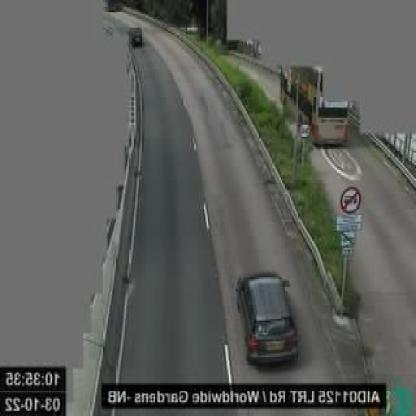Bus: (282, 66, 348, 145)
Car: (239, 270, 303, 361), (129, 26, 144, 45)
